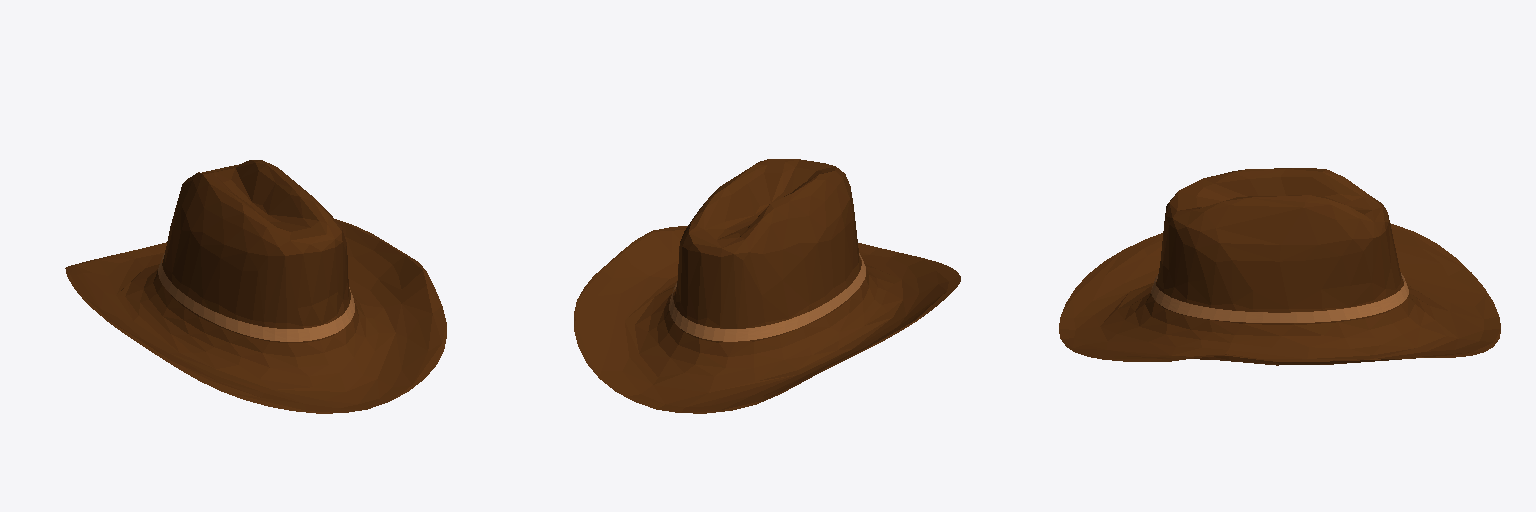
File: Cowboy Hat.obj
3 views of the same model, side by side, from view 1: azimuth 30°, elevation 25°; view 2: azimuth 150°, elevation 25°; view 3: azimuth 270°, elevation 25° (orthographic).
Parts seen in each view (by area): view 1: Hat, ring; view 2: Hat, ring; view 3: Hat, ring.
Boxes of the visible parts, x1=… form: Hat: x1=65, y1=160, x2=446, y2=413; ring: x1=158, y1=253, x2=354, y2=341; Hat: x1=574, y1=159, x2=960, y2=413; ring: x1=669, y1=253, x2=865, y2=341; Hat: x1=1059, y1=168, x2=1500, y2=365; ring: x1=1151, y1=273, x2=1408, y2=322.
Size of the model in its own units: 300 by 142 by 387.